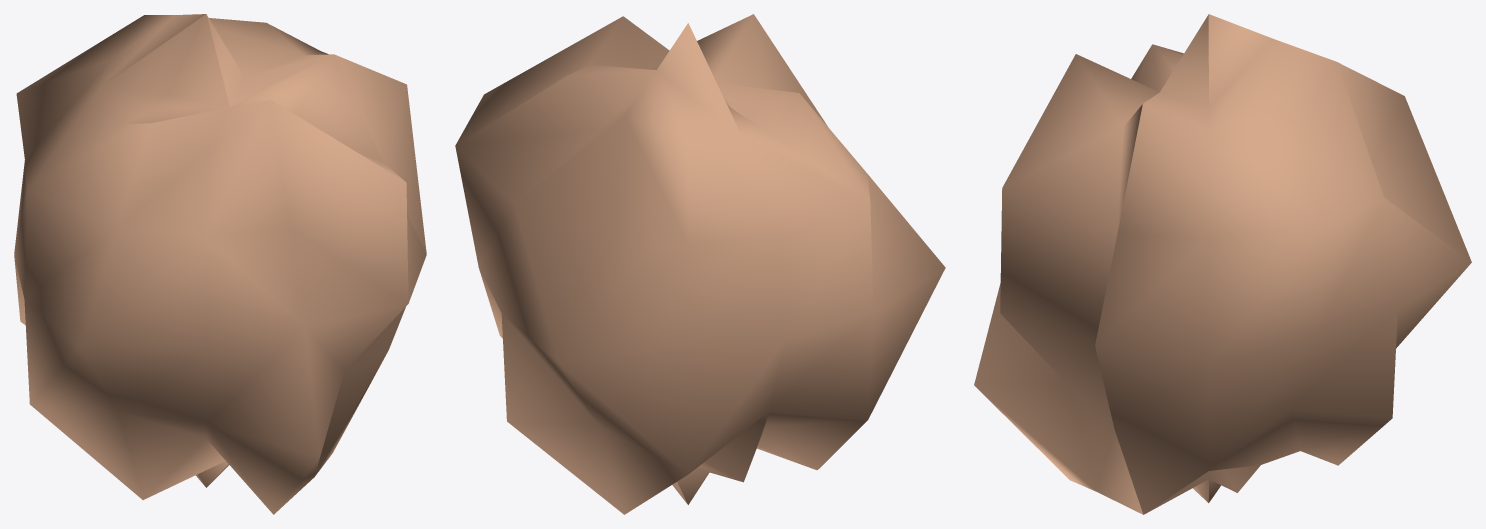
The model's file is rock_012.fbx.
3 renders of one model, left to right at view 1: azimuth 30°, elevation 25°; view 2: azimuth 150°, elevation 25°; view 3: azimuth 270°, elevation 25°, orthographic. The views are drawn at different scales.
Parts seen in each view (by area): view 1: Rock; view 2: Rock; view 3: Rock.
Boxes of the visible parts, left/top/right/bottom form: Rock: left=14, top=14, right=426, bottom=514; Rock: left=455, top=14, right=945, bottom=514; Rock: left=974, top=14, right=1471, bottom=514.
Size of the model in its own units: 3.34 by 3.84 by 3.54.
